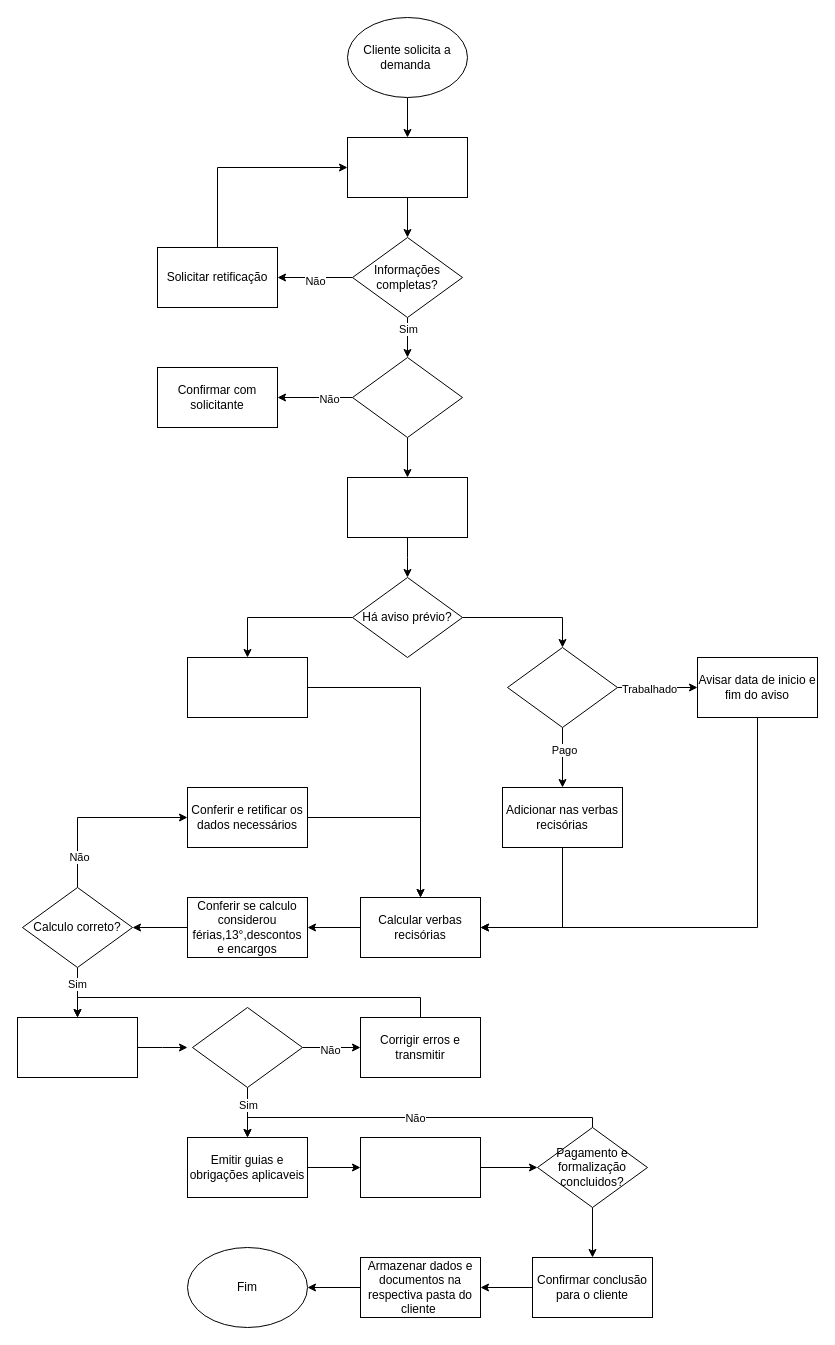
Image size: 835x1345. Some labels were removed from this diagram. Here are the shapes that lost their labels. From the top down, the box of each, then its label:
(346, 136, 468, 198): Envio de formulário demissional
(352, 356, 462, 438): Tipo de demissão definido?
(346, 476, 468, 538): Validar data de desligamento e aviso prévio
(186, 656, 308, 718): Seguir sem aviso prévio
(506, 646, 618, 728): Trabalhado ou Pago?
(16, 1016, 138, 1078): Conferir envio no e-social
(192, 1006, 302, 1088): Evendo aceito?
(360, 1136, 480, 1198): Orientar cliente sobre pagamentos e assinaturas
